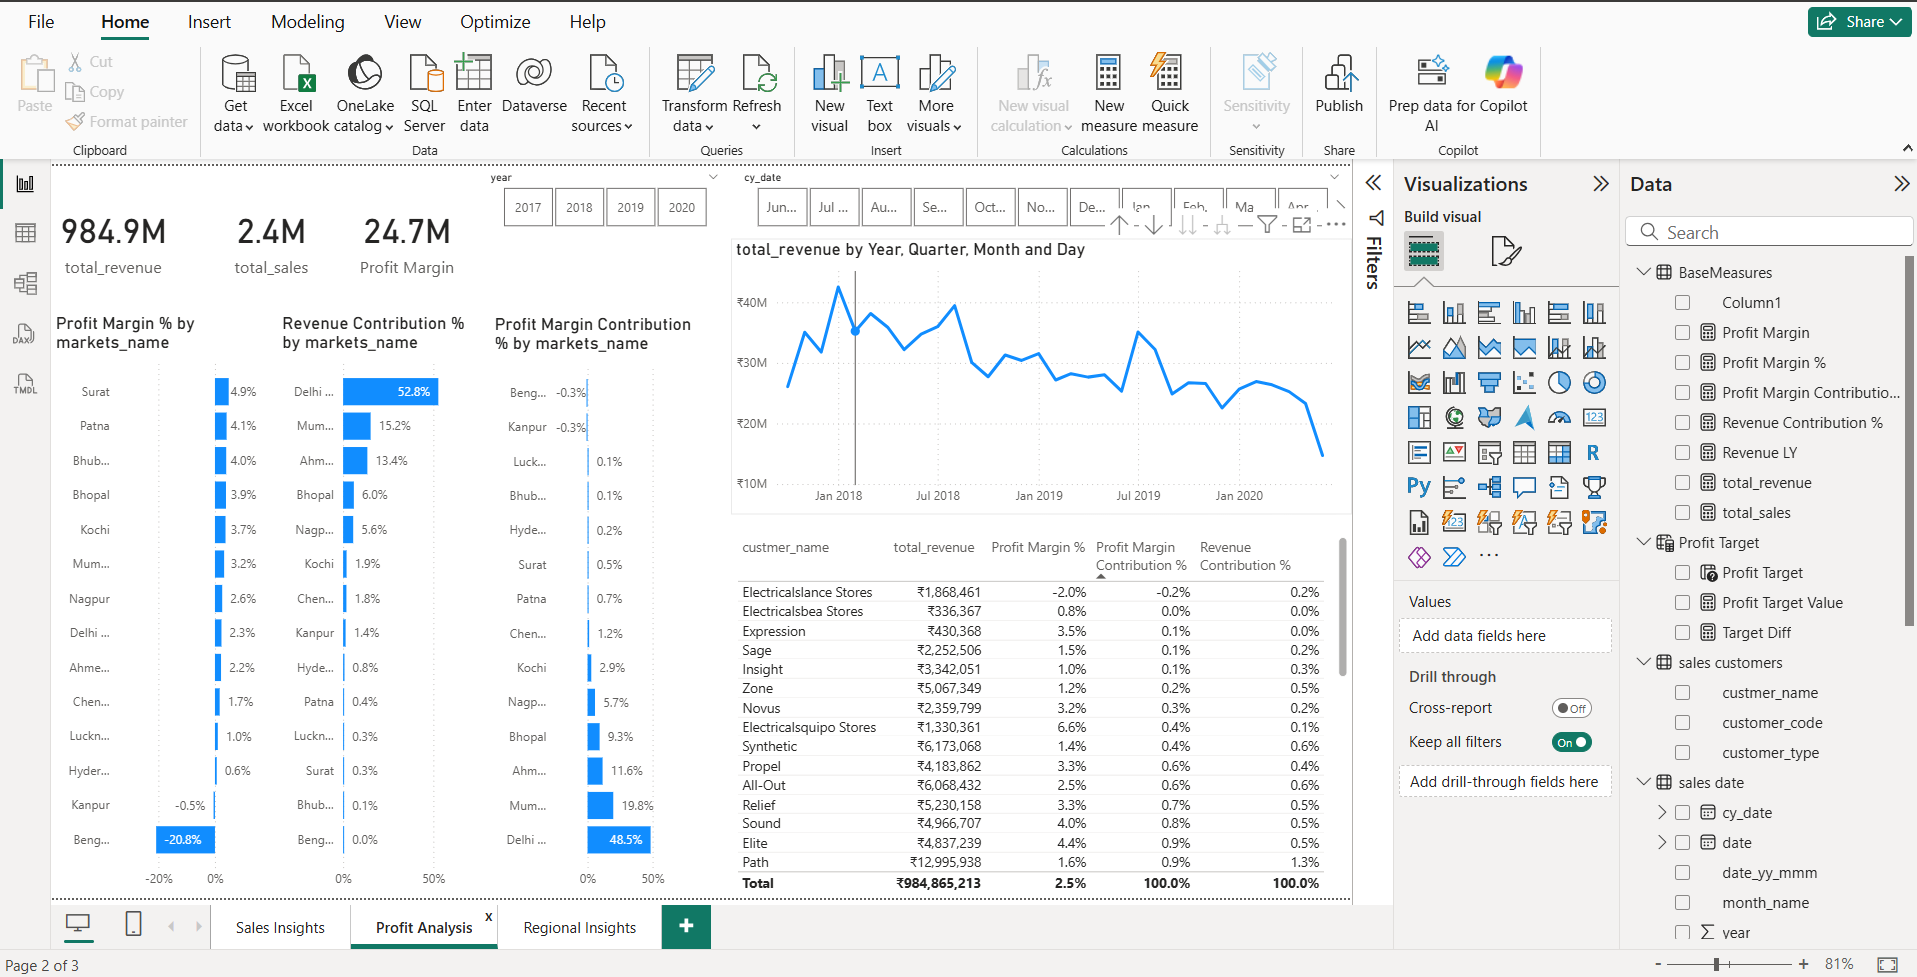

This screenshot's page, from the dashboard's own definition file:
{"tool":"powerbi","page":{"name":"Profit Analysis","canvas":[1280,720],"ordinal":1},"visuals":[{"type":"card","fields":{"Values":["BaseMeasures.total_revenue"]},"box":[0,0,123,143.9],"z":0},{"type":"card","fields":{"Values":["BaseMeasures.total_sales"]},"box":[145.1,0,143.9,143.9],"z":1000},{"type":"barChart","fields":{"Category":["sales markets.markets_name"],"Y":["BaseMeasures.Profit Margin %"]},"box":[0,143.9,216.4,575.6],"z":2000},{"type":"barChart","fields":{"Category":["sales markets.markets_name"],"Y":["BaseMeasures.Profit Margin Contribution %"]},"box":[431.7,145.1,207.8,574.3],"z":3000},{"type":"slicer","fields":{"Values":["sales date.year"]},"box":[419.4,0,249.7,66.4],"z":4000},{"type":"slicer","fields":{"Values":["sales date.cy_date"]},"box":[669,0,611.2,66.4],"z":5000},{"type":"tableEx","fields":{"Values":["sales customers.custmer_name","BaseMeasures.total_revenue","BaseMeasures.Profit Margin %","BaseMeasures.Profit Margin Contribution %","BaseMeasures.Revenue Contribution %"]},"box":[669,360.3,611.2,357.9],"z":6000},{"type":"lineChart","fields":{"Y":["BaseMeasures.total_revenue"],"Category":["sales date.cy_date.Variation.Date Hierarchy.Year","sales date.cy_date.Variation.Date Hierarchy.Quarter","sales date.cy_date.Variation.Date Hierarchy.Month","sales date.cy_date.Variation.Date Hierarchy.Day"]},"box":[669,71.3,611.2,271.8],"z":7000},{"type":"card","fields":{"Values":["BaseMeasures.Profit Margin"]},"box":[281.6,0,137.7,143.9],"z":8000},{"type":"barChart","fields":{"Category":["sales markets.markets_name"],"Y":["BaseMeasures.Revenue Contribution %"]},"box":[222.6,143.9,209.1,575.6],"z":9000}]}

Visuals, with their boxes on the page's 1280x720 design canvas (x1, y1, x2, y2). These are canvas units, not pixel positions in the 1917x977 screenshot, which may show the page scaled, cropped or inside an application window:
card - BaseMeasures.total_revenue: left=0, top=0, right=123, bottom=144
card - BaseMeasures.total_sales: left=145, top=0, right=289, bottom=144
barChart - sales markets.markets_name x BaseMeasures.Profit Margin %: left=0, top=144, right=216, bottom=720
barChart - sales markets.markets_name x BaseMeasures.Profit Margin Contribution %: left=432, top=145, right=640, bottom=719
slicer - sales date.year: left=419, top=0, right=669, bottom=66
slicer - sales date.cy_date: left=669, top=0, right=1280, bottom=66
tableEx - sales customers.custmer_name x BaseMeasures.total_revenue: left=669, top=360, right=1280, bottom=718
lineChart - BaseMeasures.total_revenue x sales date.cy_date.Variation.Date Hierarchy.Year: left=669, top=71, right=1280, bottom=343
card - BaseMeasures.Profit Margin: left=282, top=0, right=419, bottom=144
barChart - sales markets.markets_name x BaseMeasures.Revenue Contribution %: left=223, top=144, right=432, bottom=720
